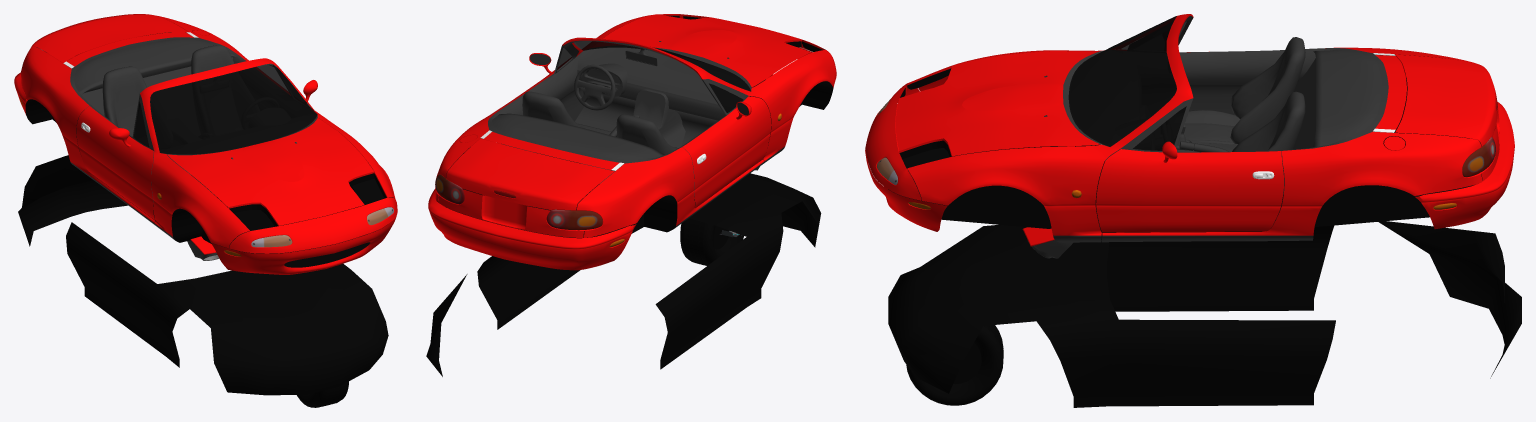
The model's file is garage-with-miata.glb.
3 views of the same model, side by side, from view 1: azimuth 30°, elevation 25°; view 2: azimuth 150°, elevation 25°; view 3: azimuth 270°, elevation 25° (orthographic). The views are drawn at different scales.
Parts seen in each view (by area): view 1: Cube.001, Plane, Cube.007, Circle.002; view 2: Cube.001, Plane, Circle.003, Circle.004; view 3: Cube.001, Plane, Circle.004, Circle.005, Cube.007.
Boxes of the visible parts, box(x1,y1,x2,y2) form: Cube.001: box(14, 14, 397, 274); Plane: box(18, 155, 388, 395); Cube.007: box(187, 236, 219, 260); Circle.002: box(297, 386, 341, 407); Cube.001: box(428, 14, 836, 270); Plane: box(426, 173, 821, 376); Circle.003: box(688, 219, 742, 265); Circle.004: box(680, 218, 707, 265); Cube.001: box(865, 14, 1514, 242); Plane: box(888, 221, 1521, 407); Circle.004: box(906, 325, 1003, 405); Circle.005: box(906, 326, 1003, 405); Cube.007: box(1022, 146, 1074, 258).
Size of the model in its own units: 124 by 157 by 269.
17 materials, 1 textured.
